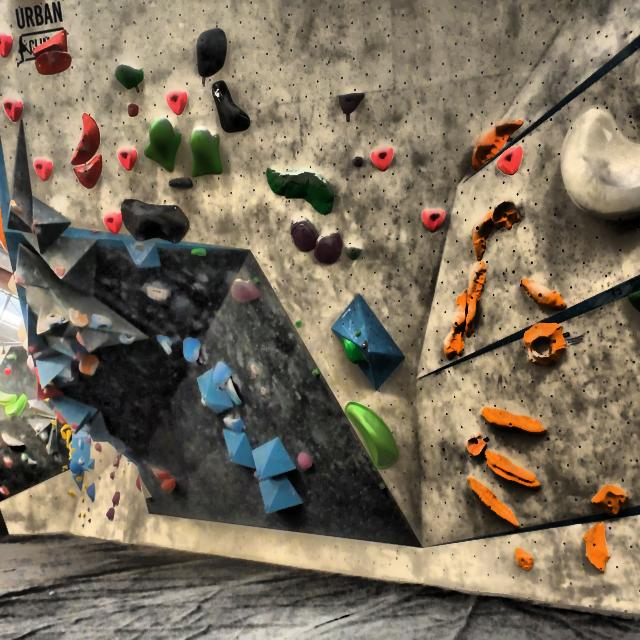Hold: (560, 103, 640, 225), (342, 397, 402, 475), (264, 160, 342, 217), (120, 198, 190, 246), (467, 475, 522, 531), (470, 116, 522, 172), (484, 448, 542, 493), (477, 404, 548, 440), (191, 25, 233, 80), (212, 80, 254, 134), (514, 274, 569, 312), (146, 116, 182, 174), (518, 325, 570, 365), (447, 289, 471, 364), (187, 128, 225, 173), (71, 113, 103, 165), (580, 522, 613, 572), (467, 258, 486, 338), (589, 481, 629, 516), (30, 29, 76, 55), (473, 211, 495, 262), (74, 153, 105, 189), (314, 232, 343, 268), (492, 198, 524, 230), (291, 217, 317, 254), (333, 89, 368, 116), (113, 64, 145, 92), (416, 204, 446, 233), (115, 146, 143, 177), (209, 352, 230, 393), (34, 51, 73, 73), (341, 336, 366, 368), (168, 86, 190, 122), (369, 145, 397, 173), (498, 147, 524, 177), (232, 278, 260, 304), (104, 208, 128, 238), (220, 409, 244, 434), (34, 157, 55, 185), (60, 422, 75, 461), (153, 334, 175, 360), (514, 545, 534, 573), (8, 392, 28, 420), (0, 99, 24, 122), (184, 335, 201, 367), (142, 283, 170, 302), (225, 373, 241, 405), (77, 353, 101, 373), (0, 32, 15, 63), (463, 436, 485, 457), (344, 241, 366, 261), (0, 387, 22, 407), (89, 312, 116, 328), (168, 176, 194, 192), (0, 431, 26, 447), (69, 305, 86, 328), (627, 285, 640, 315), (160, 478, 178, 495), (149, 464, 170, 478), (296, 451, 312, 469), (10, 198, 23, 218), (190, 243, 207, 258), (121, 336, 139, 350), (108, 491, 124, 506), (84, 483, 96, 502), (128, 101, 140, 118), (54, 263, 66, 279), (248, 362, 259, 377), (352, 327, 366, 338), (311, 365, 322, 378), (1, 456, 14, 467), (0, 483, 10, 497), (36, 419, 43, 437), (260, 385, 270, 397), (294, 318, 303, 331), (26, 457, 38, 466), (262, 498, 270, 510), (67, 489, 77, 498), (106, 510, 115, 520), (21, 452, 28, 464), (253, 468, 263, 476), (77, 476, 84, 486), (227, 450, 233, 461)
